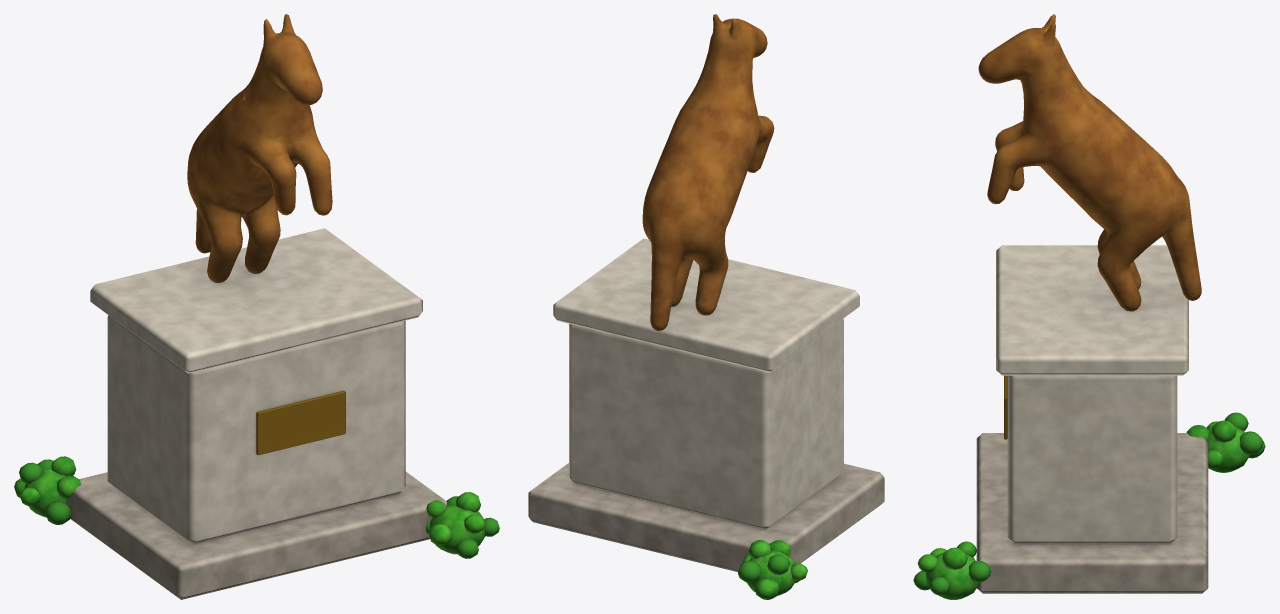
File: horse_statue.glb
3 renders of one model, left to right at view 1: azimuth 30°, elevation 25°; view 2: azimuth 150°, elevation 25°; view 3: azimuth 270°, elevation 25°, orthographic. The views are drawn at different scales.
Parts seen in each view (by area): view 1: horse_statue; view 2: horse_statue; view 3: horse_statue.
Part boxes in pixels (box(x1,y1,x2,y2)): horse_statue: box(14, 14, 499, 599); horse_statue: box(528, 14, 884, 599); horse_statue: box(913, 14, 1265, 599).
Bounding box in the file's own units: 0.9826 × 1.48 × 0.9129.
Materials: 1 (1 with a texture image).
